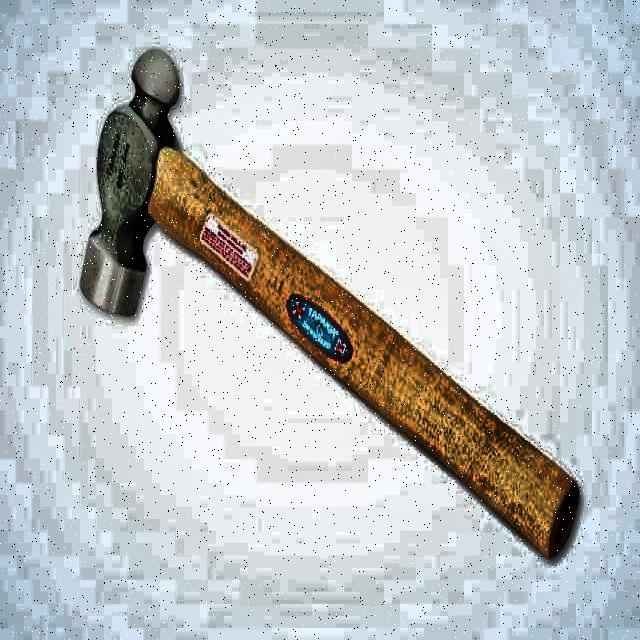hammer: (79, 44, 583, 562)
